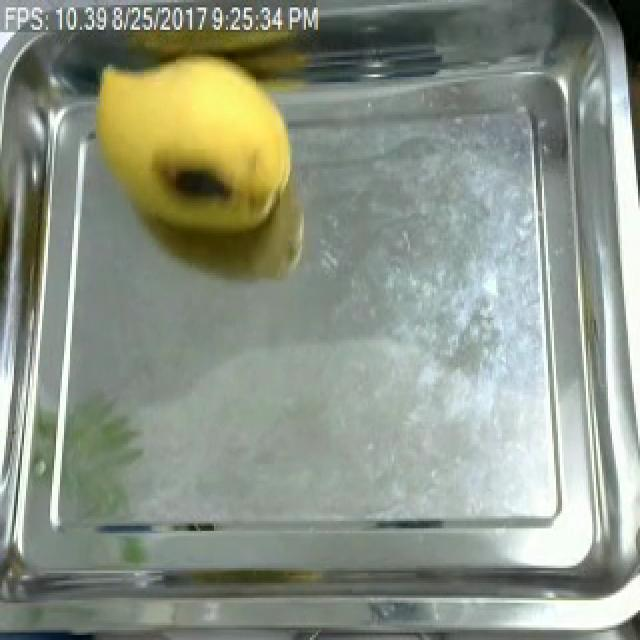fruit: (72, 45, 304, 211)
